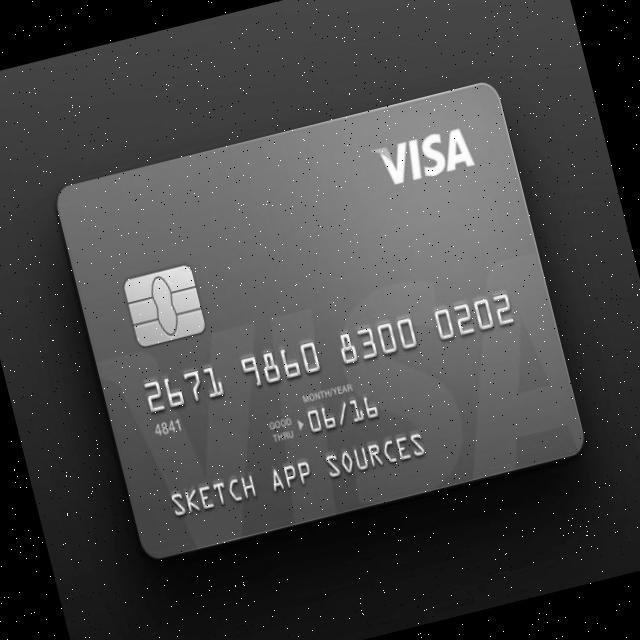card: (50, 75, 593, 568)
